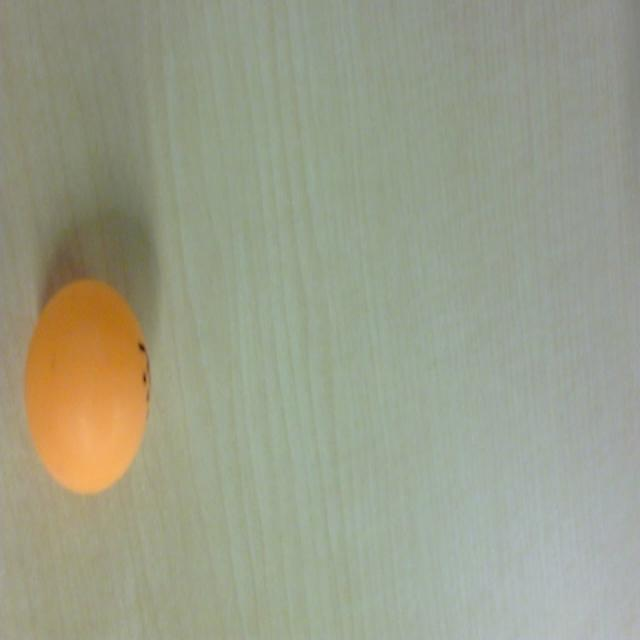ball: (21, 274, 152, 502)
